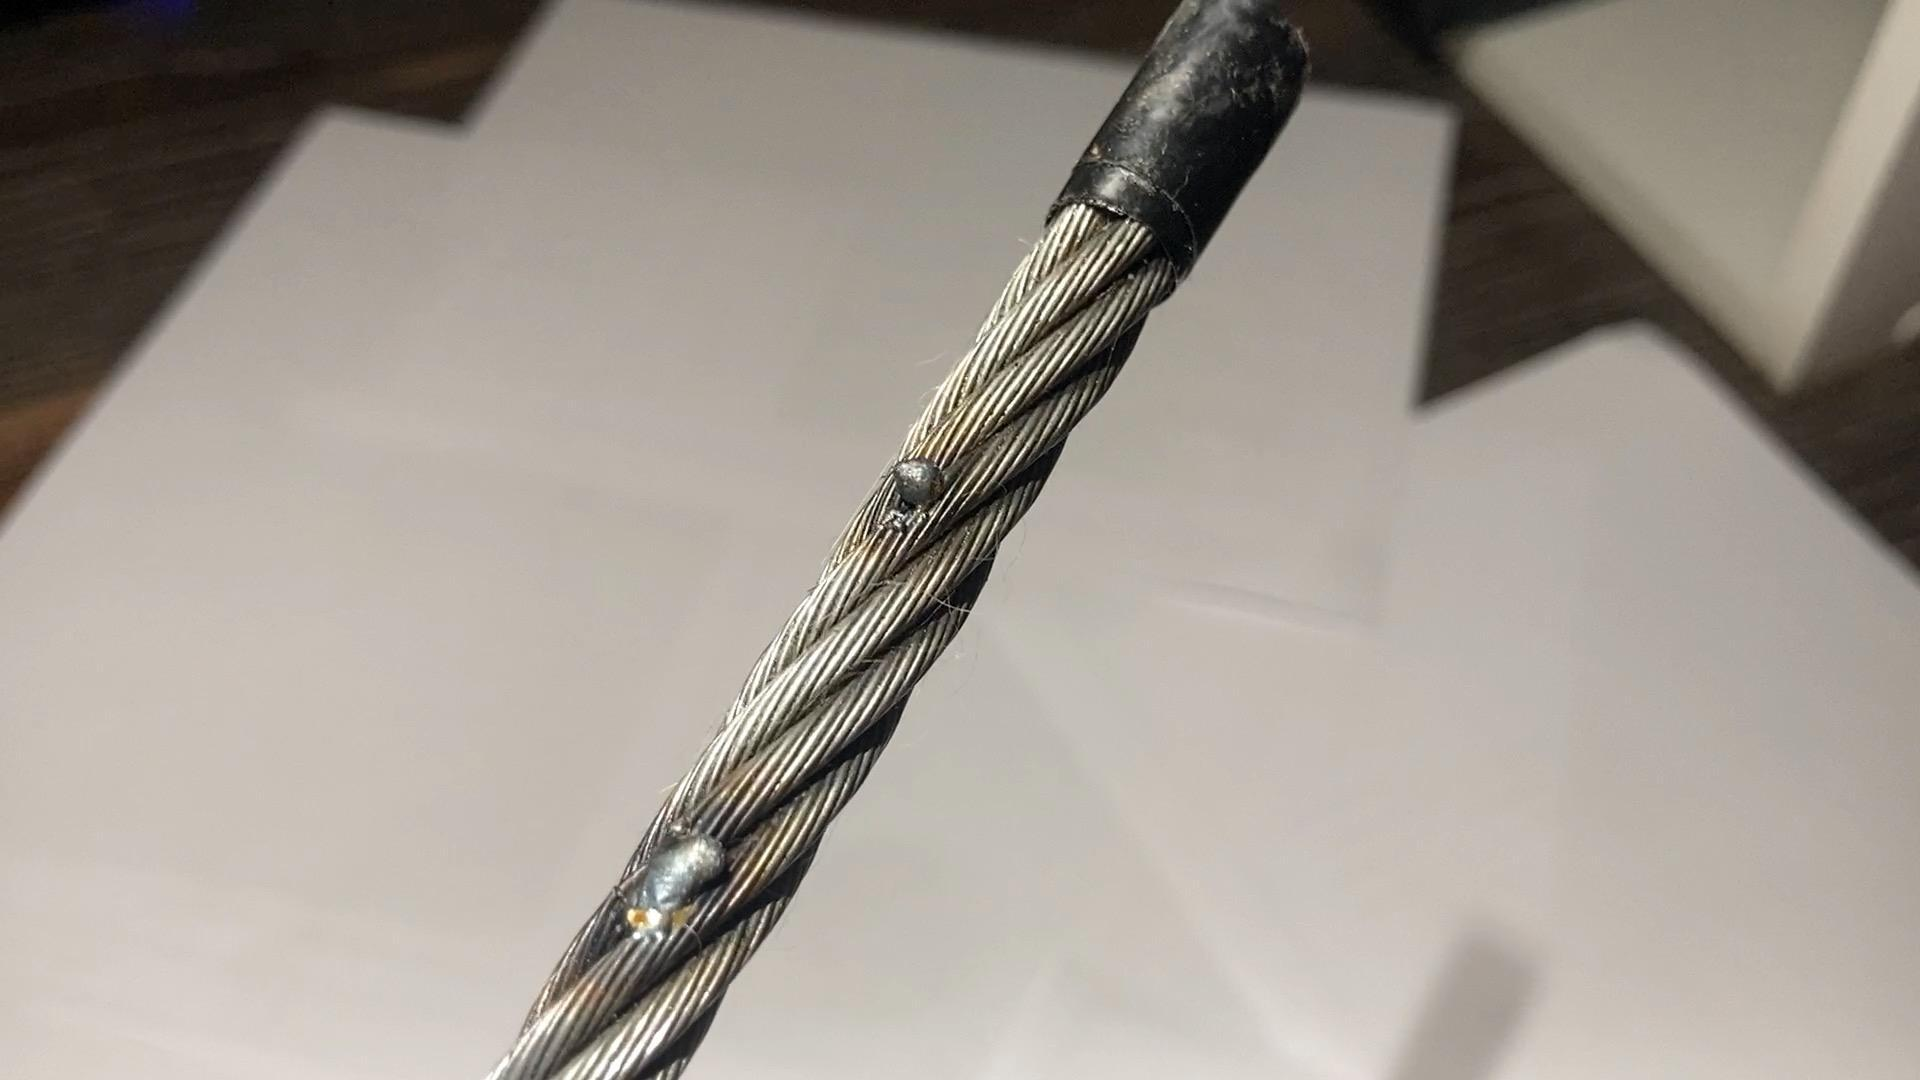thunderbolt: (615, 827, 745, 938), (878, 450, 961, 541)
